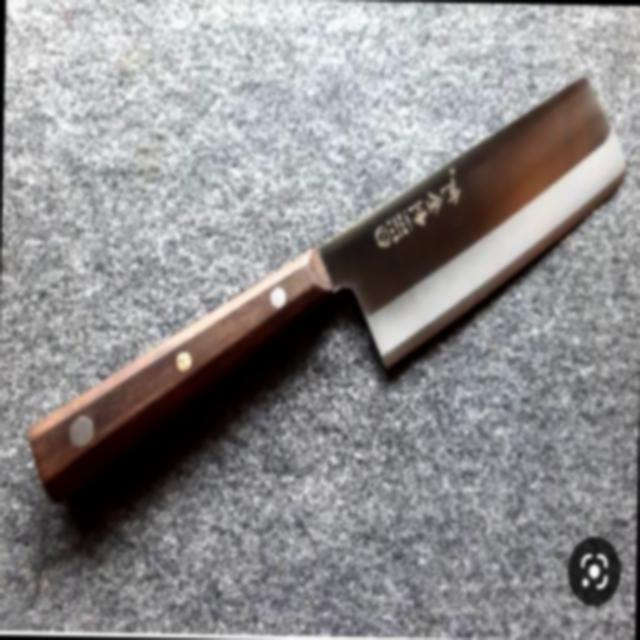knife: (19, 36, 626, 512)
